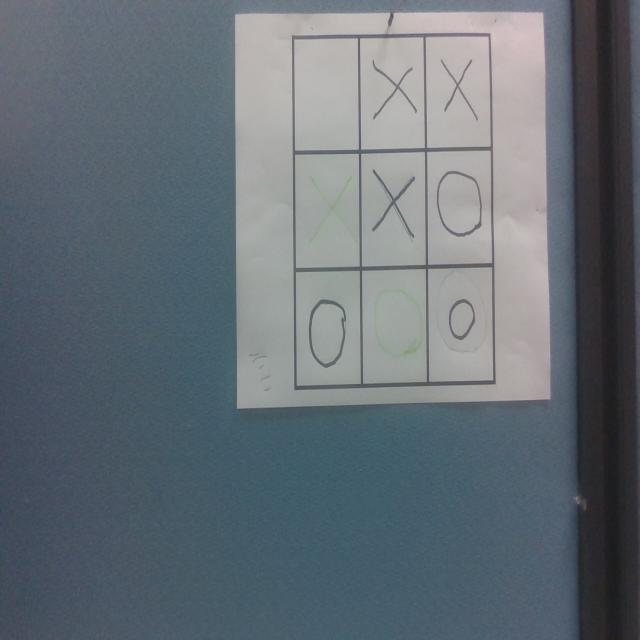null: (295, 38, 359, 153)
o: (374, 287, 425, 358), (435, 168, 483, 238), (308, 297, 347, 368), (447, 297, 476, 341)
table: (294, 31, 491, 384)
x: (304, 173, 354, 247), (371, 166, 415, 243), (372, 63, 417, 123), (440, 57, 478, 124)
